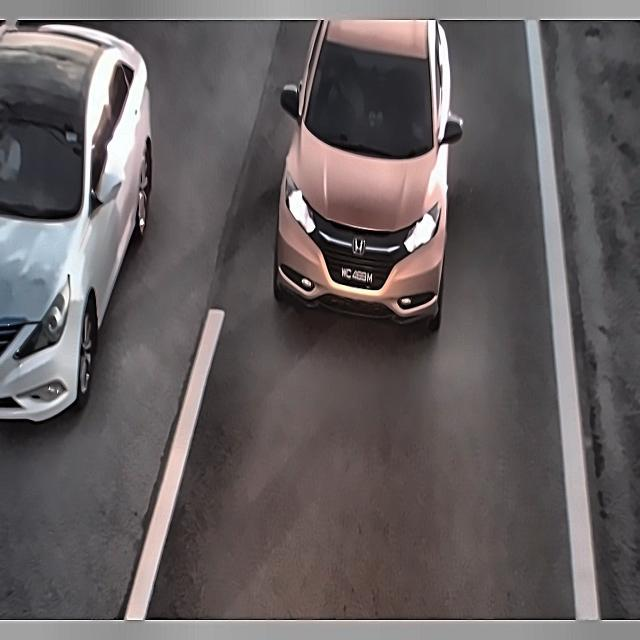car: (336, 259, 378, 292)
